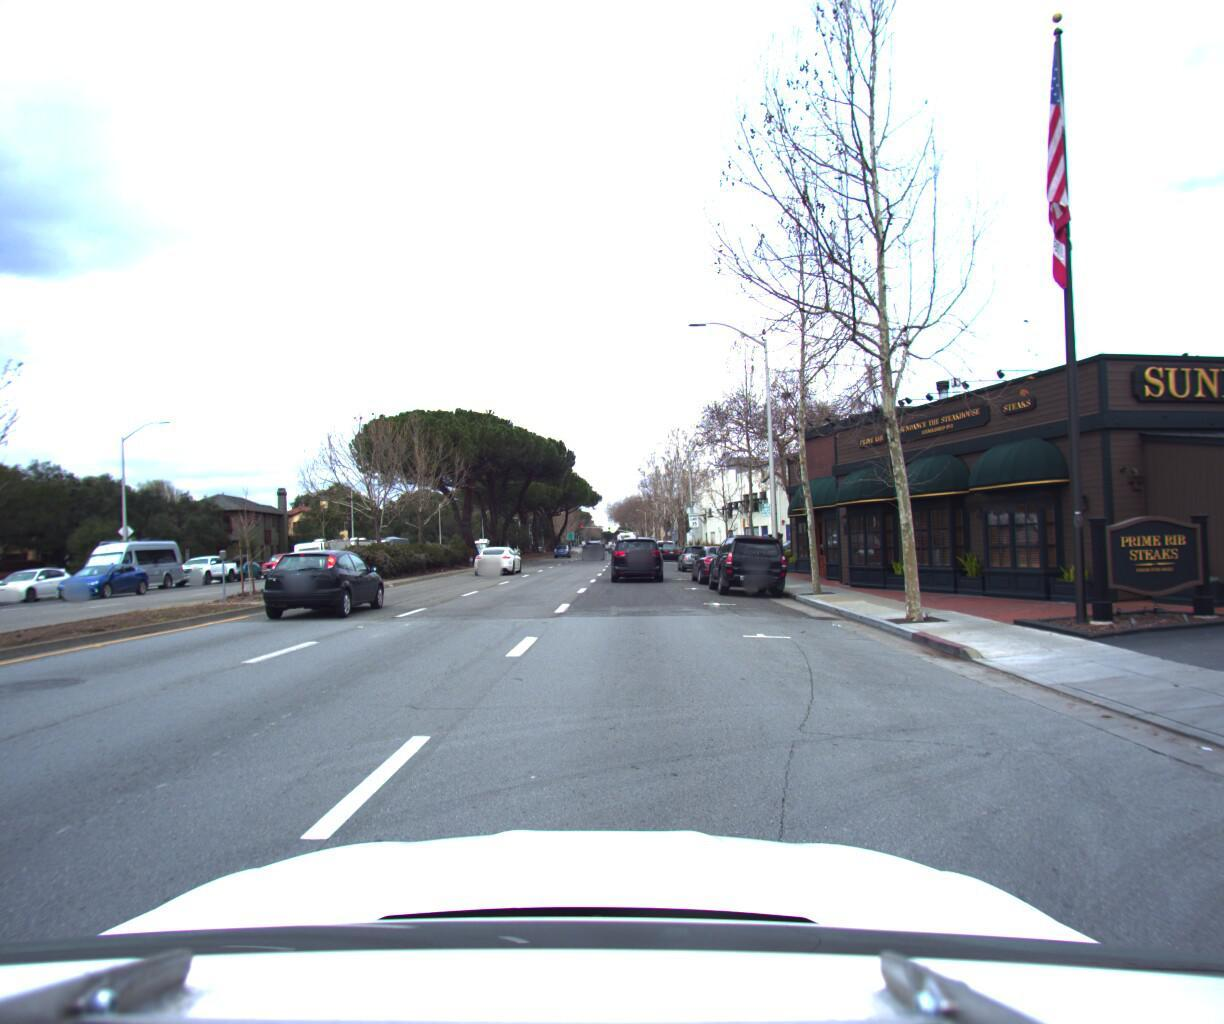car: (256, 538, 392, 616), (67, 529, 193, 592), (706, 524, 793, 595), (52, 552, 159, 593), (0, 557, 86, 602), (609, 525, 665, 577), (689, 535, 754, 579), (170, 546, 245, 580), (215, 546, 270, 577), (473, 536, 524, 568), (261, 543, 317, 573), (677, 534, 717, 566), (659, 534, 685, 554), (580, 528, 604, 549)
other_vehicle: (293, 528, 360, 566), (329, 527, 382, 563)
